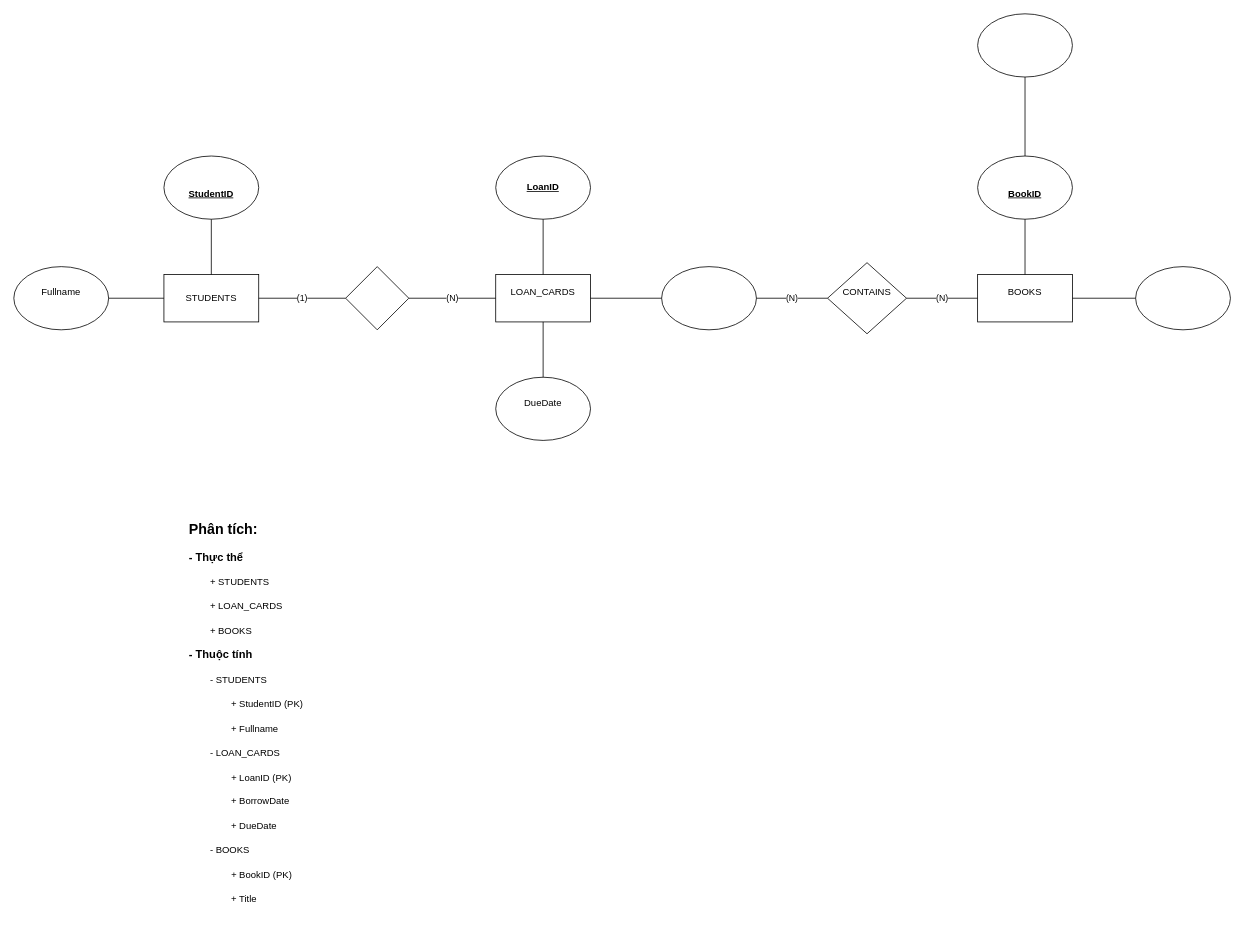
This 1244x941 diagram has some shape labels left out. Each missing label, with the centre of its shape:
BorrowDate: the point at 708,298
HAS: the point at 377,298
Status: the point at 1024,45
Title: the point at 1182,298
